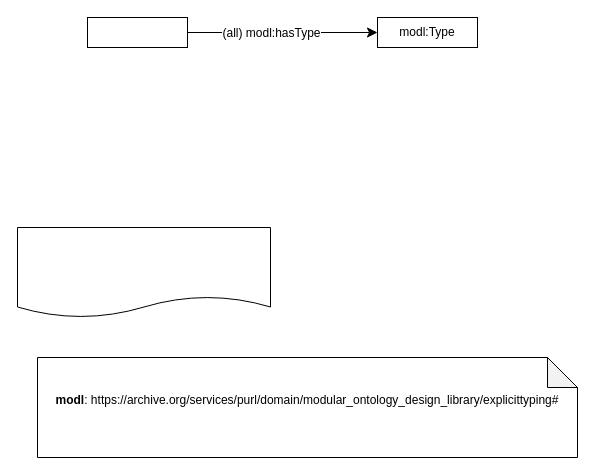
The diagram is 595 pixels wide and 475 high, and some of its shapes have lost their labels. Each missing label, with the centre of its shape:
"dc:creator: TAI KG+NLP owl:versionInfo: 0.0.1 dc:title: Broken Ontology" goes at point (143, 272).
"owl:Thing" goes at point (137, 32).
